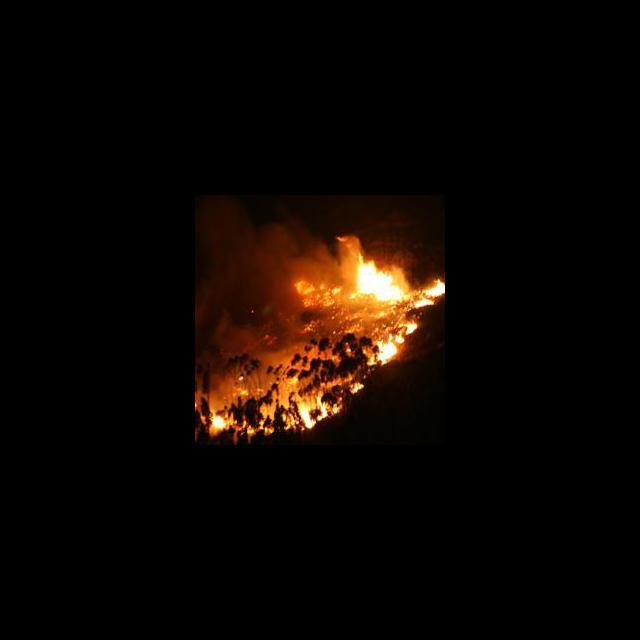Fire: (350, 249, 445, 311), (364, 319, 422, 367), (293, 390, 342, 430), (210, 402, 232, 430)
